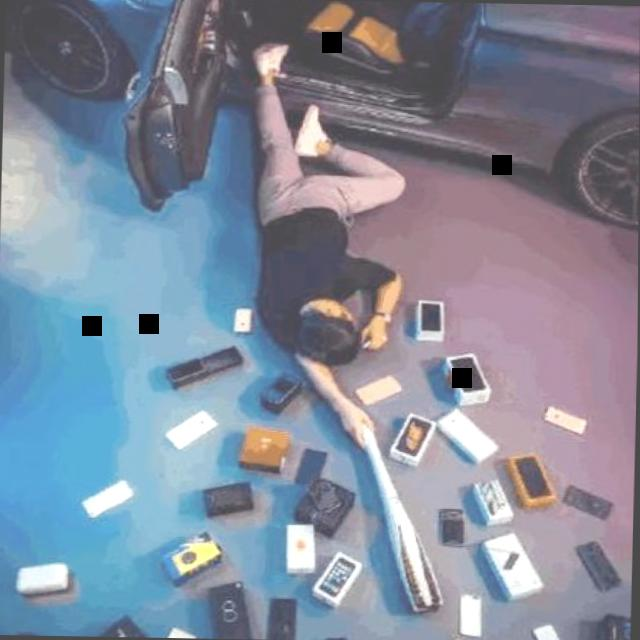Fall-Detected: (215, 28, 423, 457)
